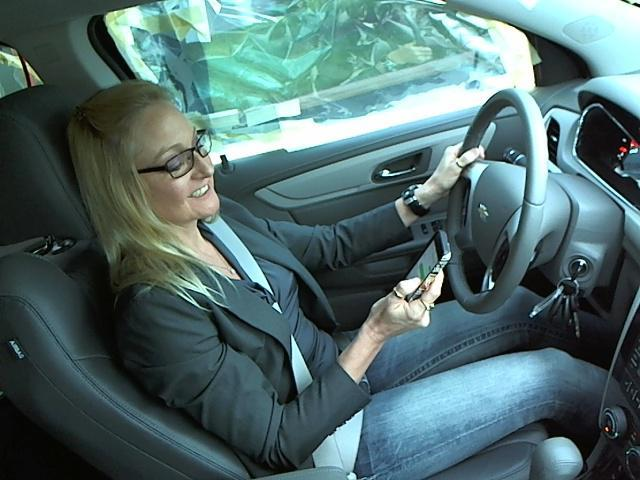PhoneUse: (390, 229, 460, 305)
